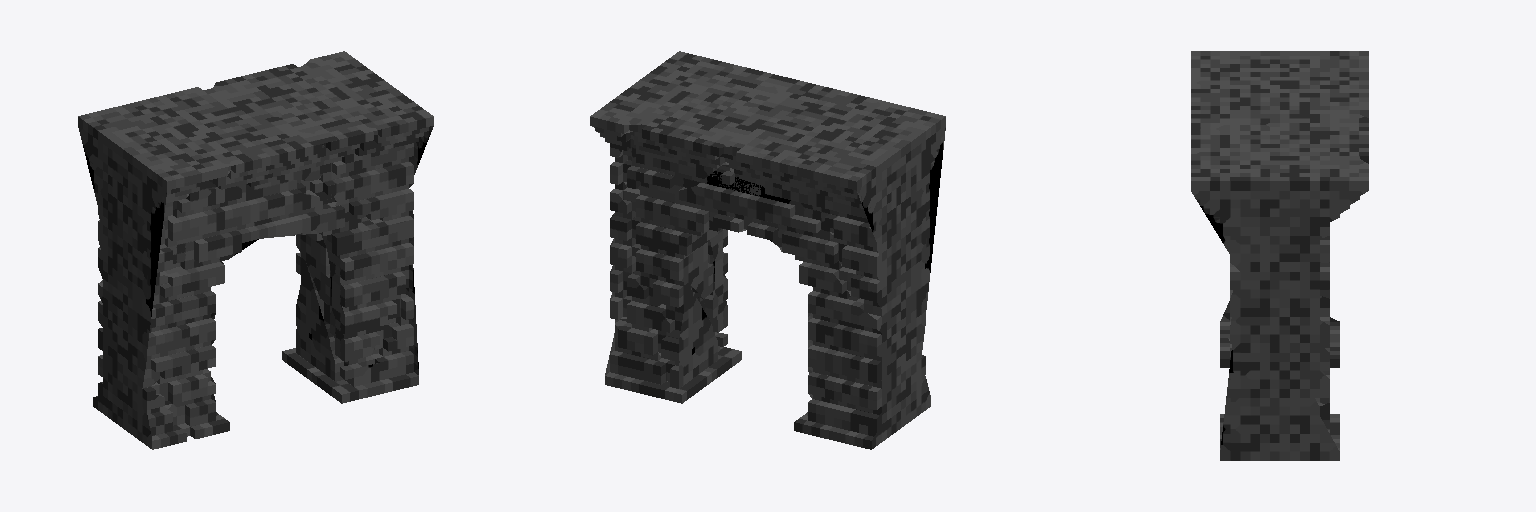
The picture shows the model from 3 angles: view 1: azimuth 30°, elevation 25°; view 2: azimuth 150°, elevation 25°; view 3: azimuth 270°, elevation 25°; orthographic projection.
Parts seen in each view (by area): view 1: Wall_WDoor_Int_SemiBrick_Cracked_Wall_WDoor_Int_SemiBrick_Cracke; view 2: Wall_WDoor_Int_SemiBrick_Cracked_Wall_WDoor_Int_SemiBrick_Cracke; view 3: Wall_WDoor_Int_SemiBrick_Cracked_Wall_WDoor_Int_SemiBrick_Cracke.
Boxes of the visible parts, box(x1,y1,x2,y2) form: Wall_WDoor_Int_SemiBrick_Cracked_Wall_WDoor_Int_SemiBrick_Cracke: box(78, 51, 433, 449); Wall_WDoor_Int_SemiBrick_Cracked_Wall_WDoor_Int_SemiBrick_Cracke: box(590, 51, 945, 449); Wall_WDoor_Int_SemiBrick_Cracked_Wall_WDoor_Int_SemiBrick_Cracke: box(1191, 51, 1368, 460).
Size of the model in its own units: 3.1 by 3.1 by 1.8.
Materials: 1 (1 with a texture image).